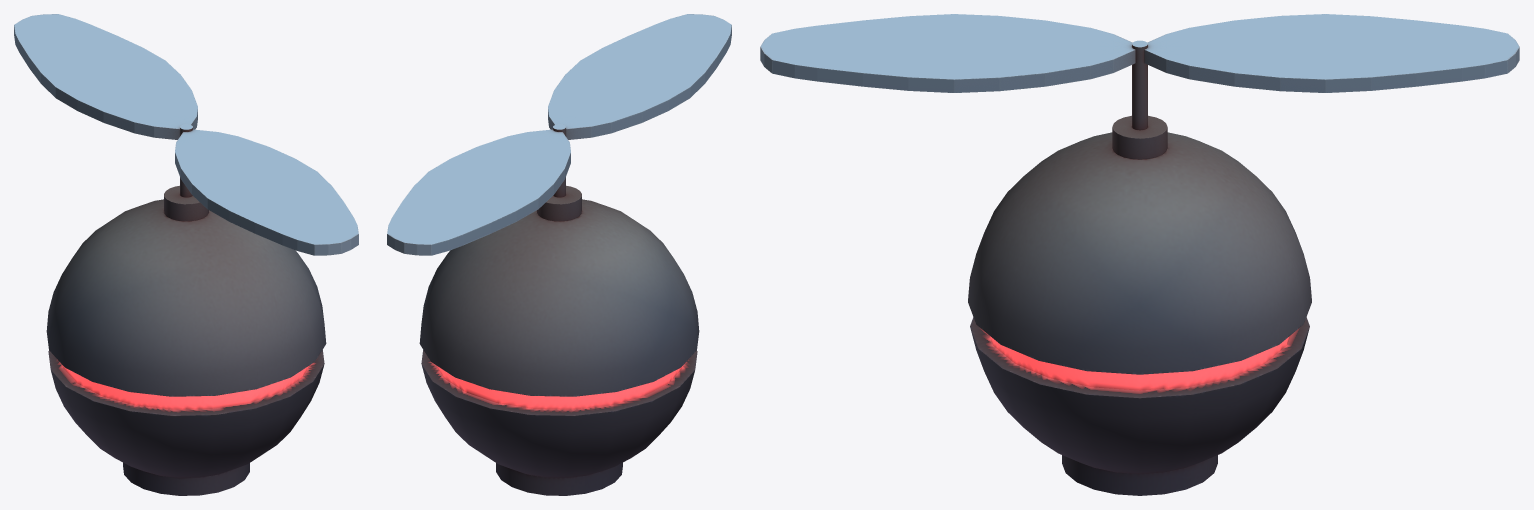
Rendered from Enemy1.glb.
3 renders of one model, left to right at view 1: azimuth 30°, elevation 25°; view 2: azimuth 150°, elevation 25°; view 3: azimuth 270°, elevation 25°, orthographic. The views are drawn at different scales.
Parts seen in each view (by area): view 1: Enemy1; view 2: Enemy1; view 3: Enemy1.
Part boxes in pixels (left/top/right/bottom): Enemy1: left=14, top=14, right=358, bottom=495; Enemy1: left=387, top=14, right=731, bottom=495; Enemy1: left=760, top=14, right=1519, bottom=495.
Bounding box in the file's own units: 2 × 2.69 × 4.41.
Materials: 1 (1 with a texture image).
